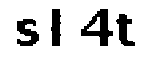4: (79, 6, 114, 48)
l: (47, 6, 66, 48)
s: (14, 17, 39, 49)
t: (117, 11, 139, 48)
